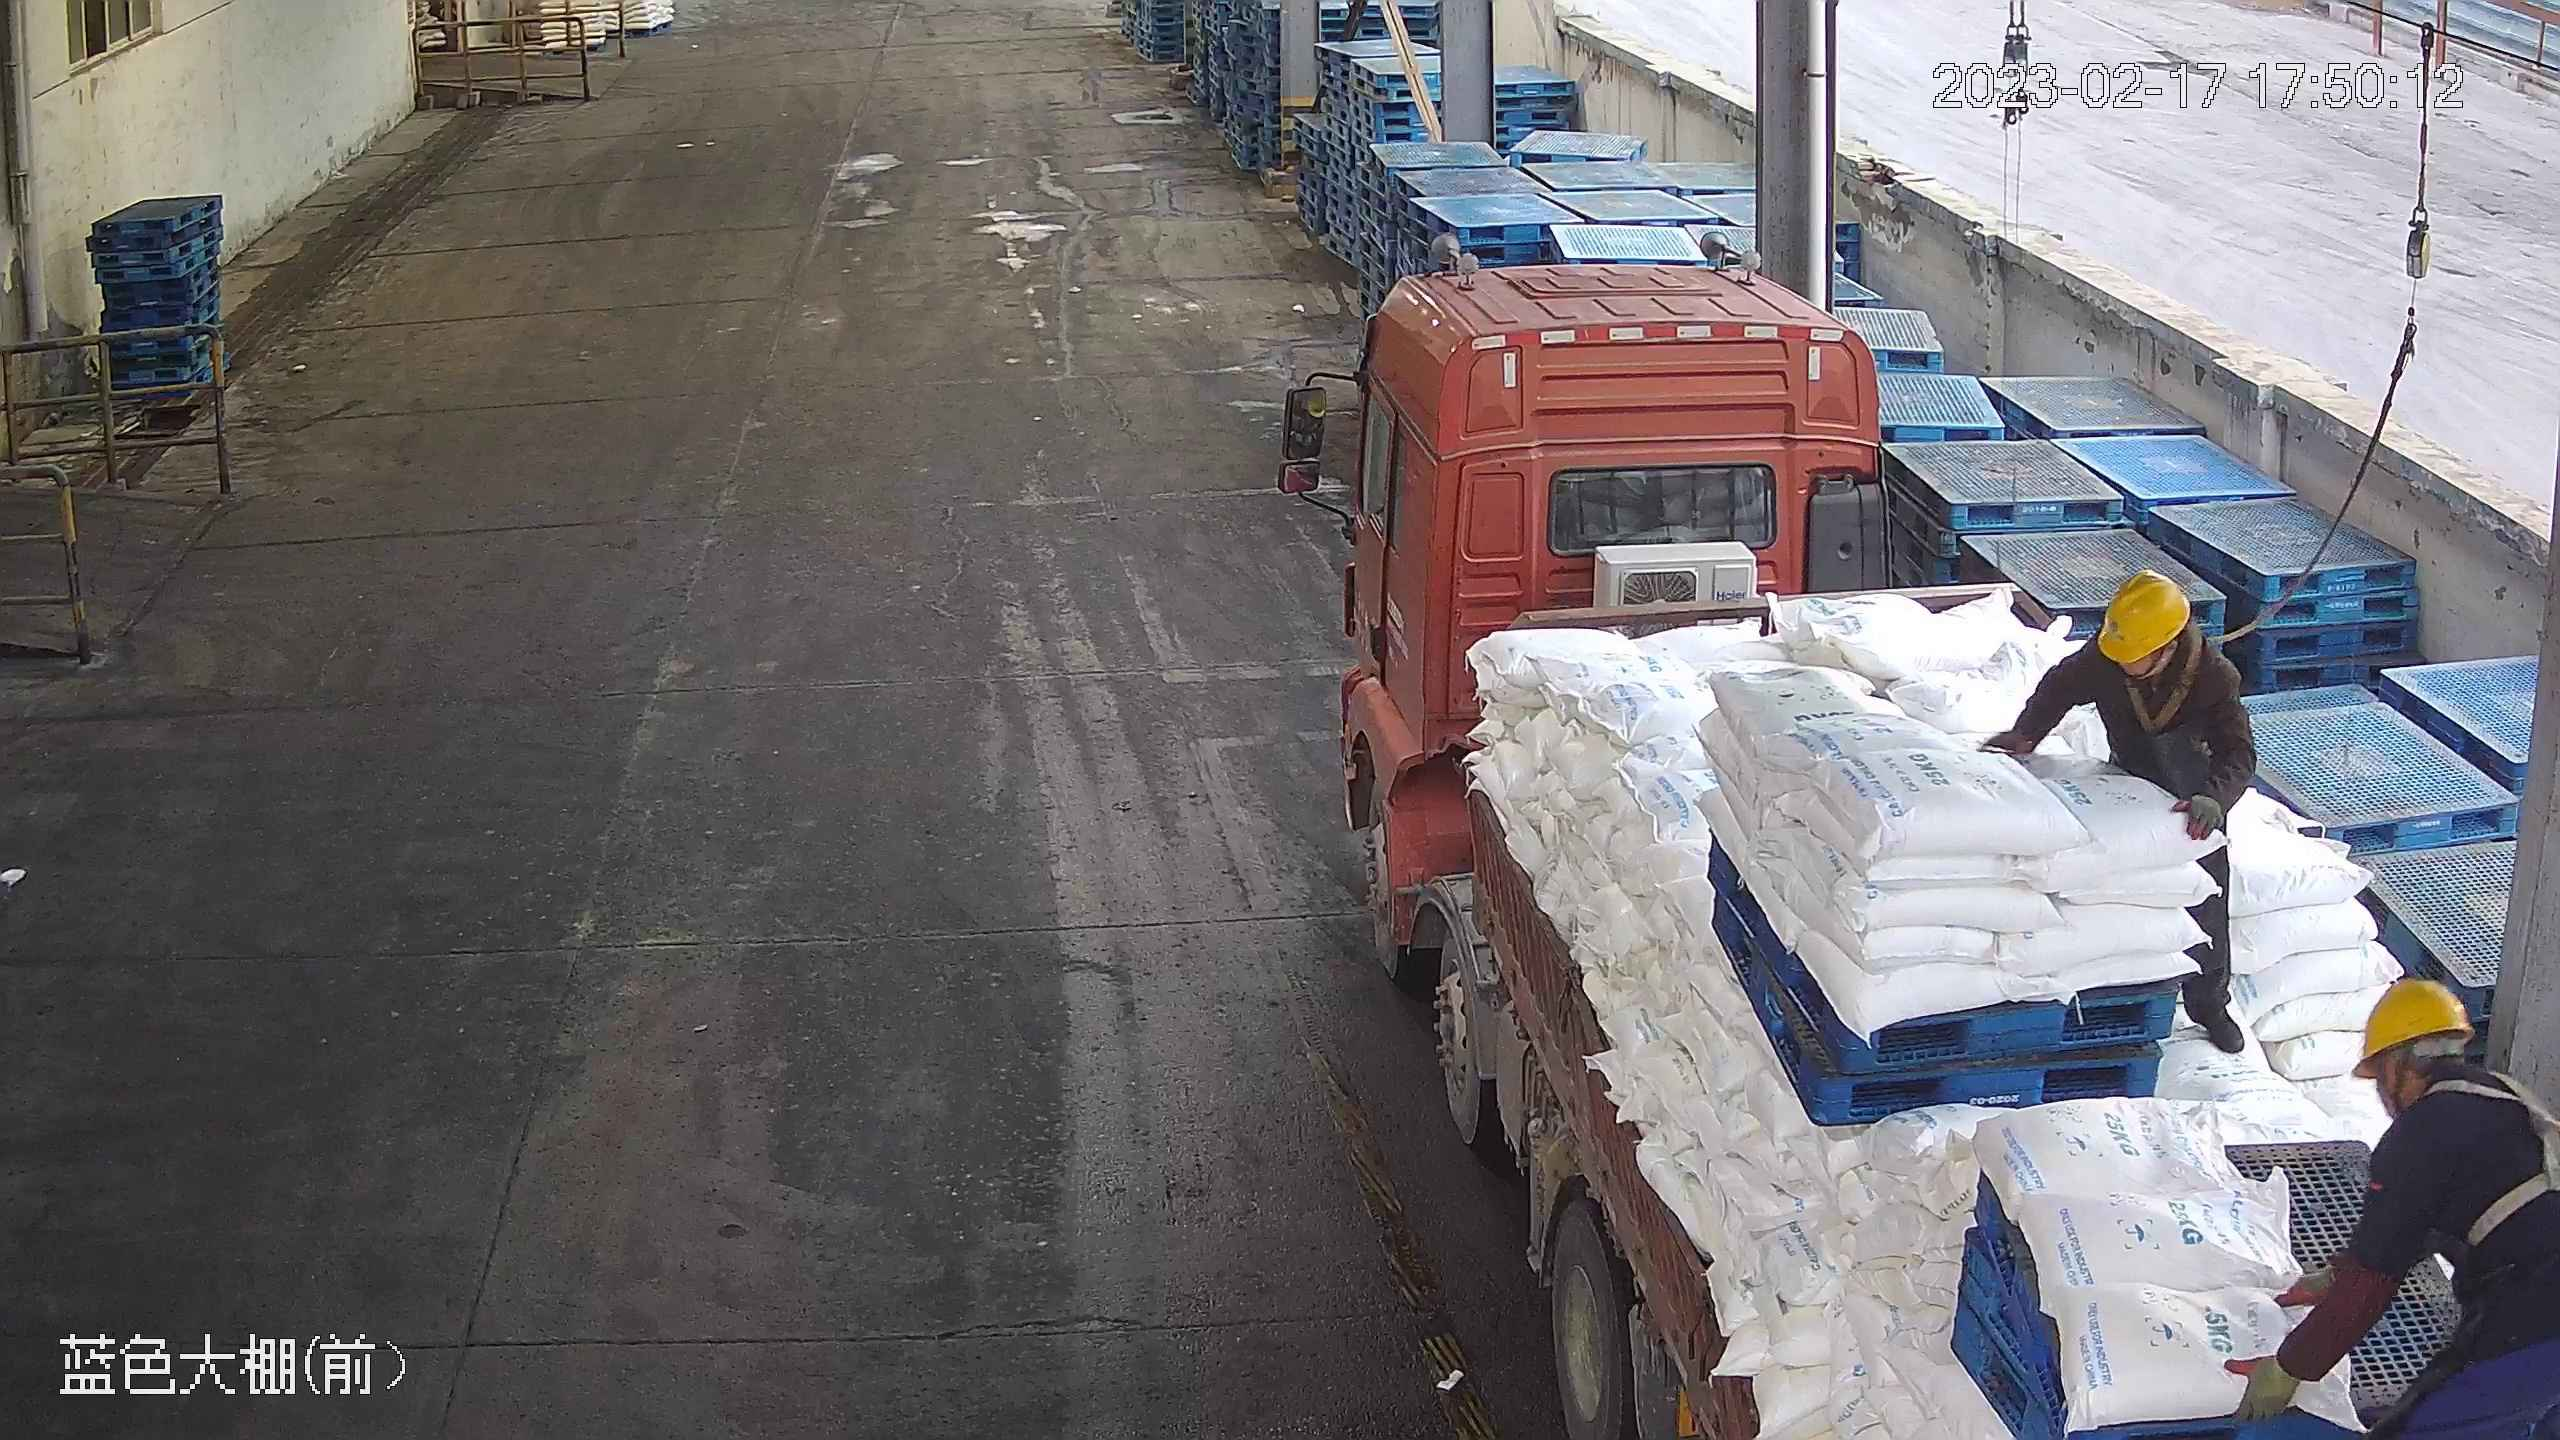belt: (2404, 1069, 2559, 1252), (2114, 639, 2229, 730)
head: (2337, 973, 2553, 1182), (2066, 570, 2235, 708)
helmet: (2345, 975, 2472, 1074), (2099, 567, 2187, 663)
people: (2219, 973, 2560, 1435), (1986, 568, 2264, 1061)
truck: (1281, 264, 2560, 1440)
